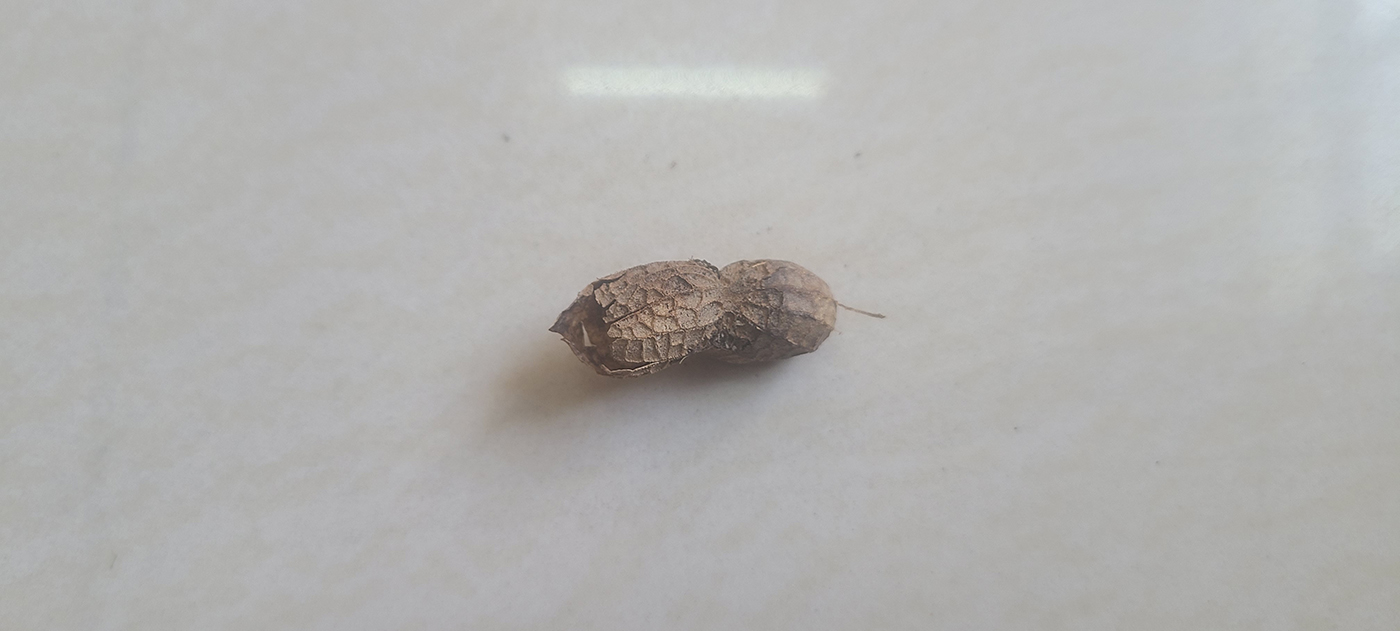l: (551, 255, 839, 379)
